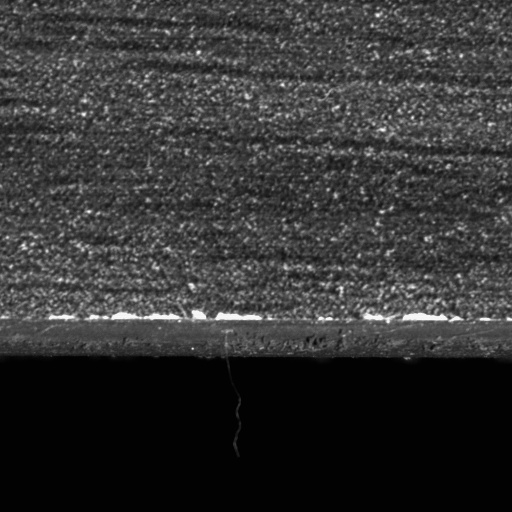huashang: (111, 310, 184, 322), (402, 311, 462, 323), (215, 311, 263, 322), (190, 309, 208, 321)
